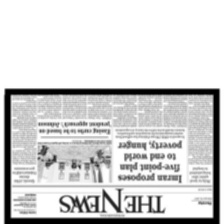news_paper: (8, 90, 216, 219)
